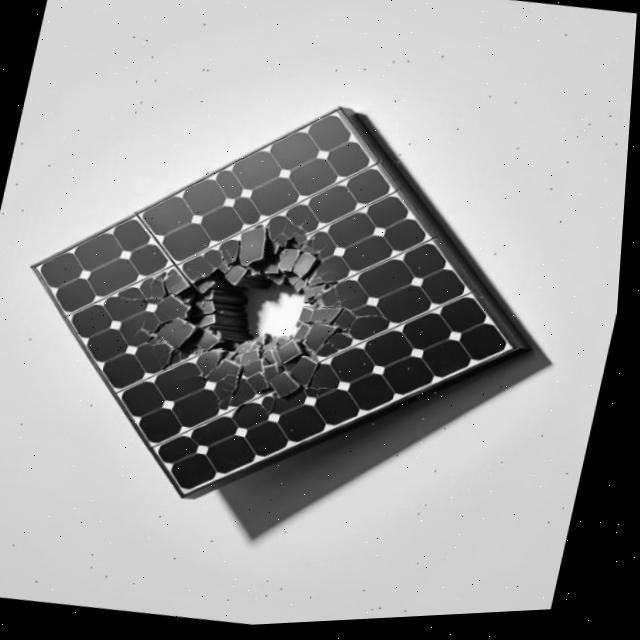Anomaly Solar Panel: (39, 64, 516, 556)
Structural Damage: (121, 203, 374, 444), (119, 293, 164, 303), (269, 401, 282, 418), (181, 375, 210, 382)
